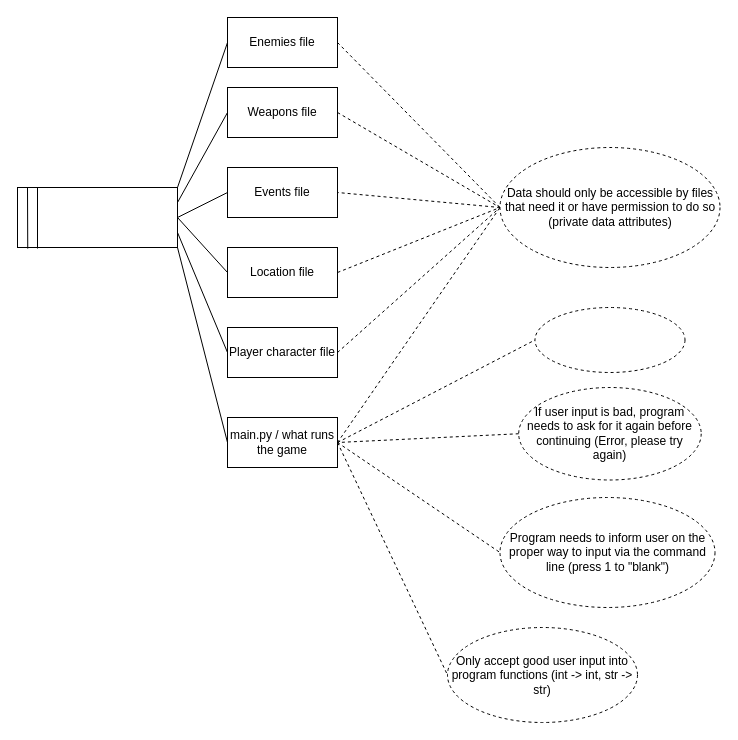
Image size: 738x740. Some labels were removed from this diagram. The box of each missing label's shape, as (x1, y1, x2, y2) in pixels:
ANDADOTSTDAUG(TM): (16, 186, 178, 248)
Program needs to be prepared to catch bad user input (trust barrier): (534, 306, 685, 372)
